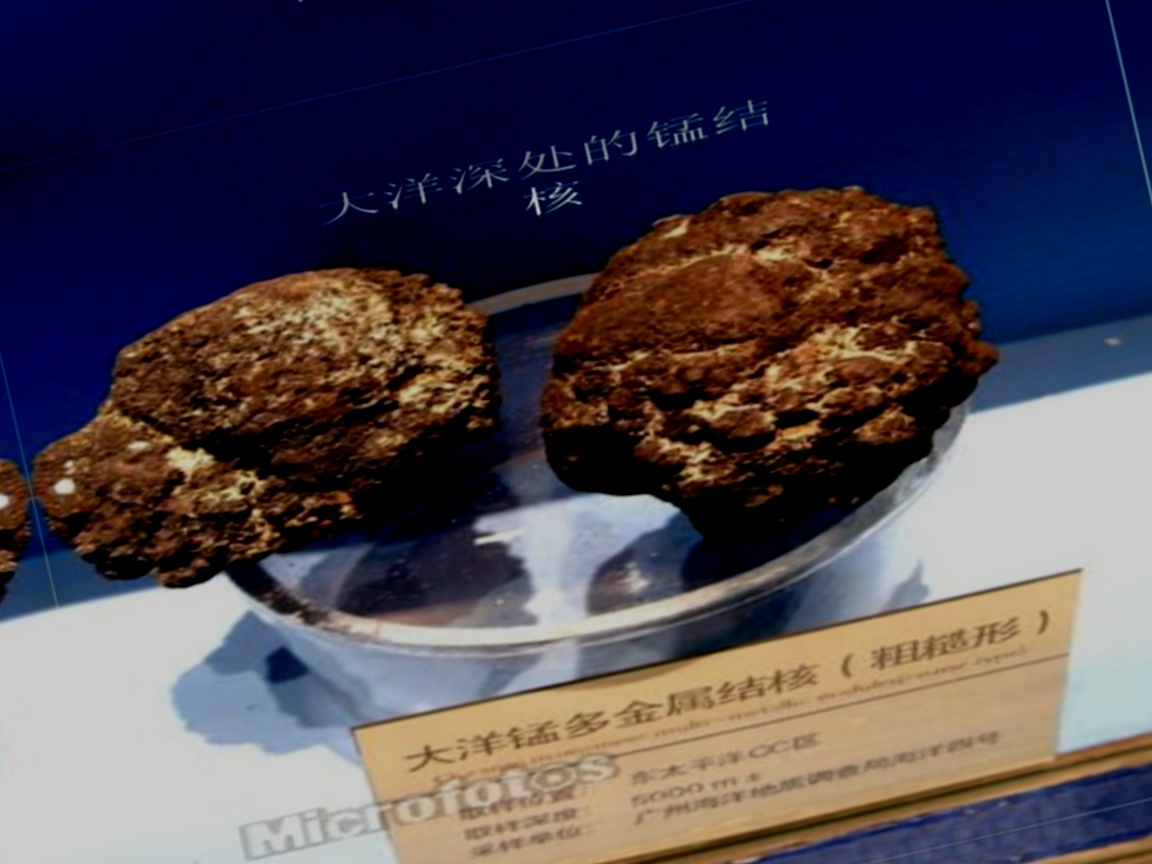halobolite: (3, 226, 544, 620), (507, 175, 969, 528)
